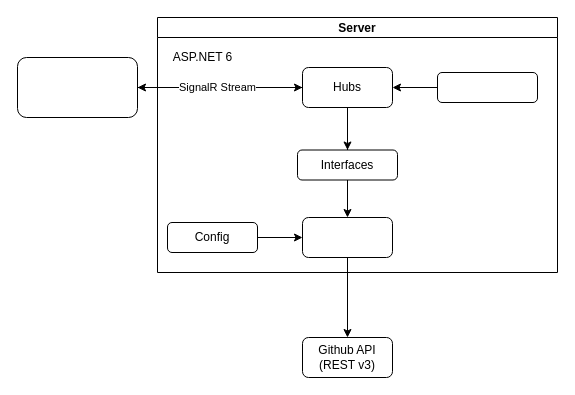
The diagram is 575 pixels wide and 395 high, and some of its shapes have lost their labels. The centre of each missing label's shape, as x and y in pixels:
Client: the point at 77,87
Helpers: the point at 487,87
Services: the point at 347,237
